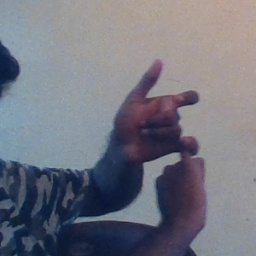S: (110, 55, 214, 214)
